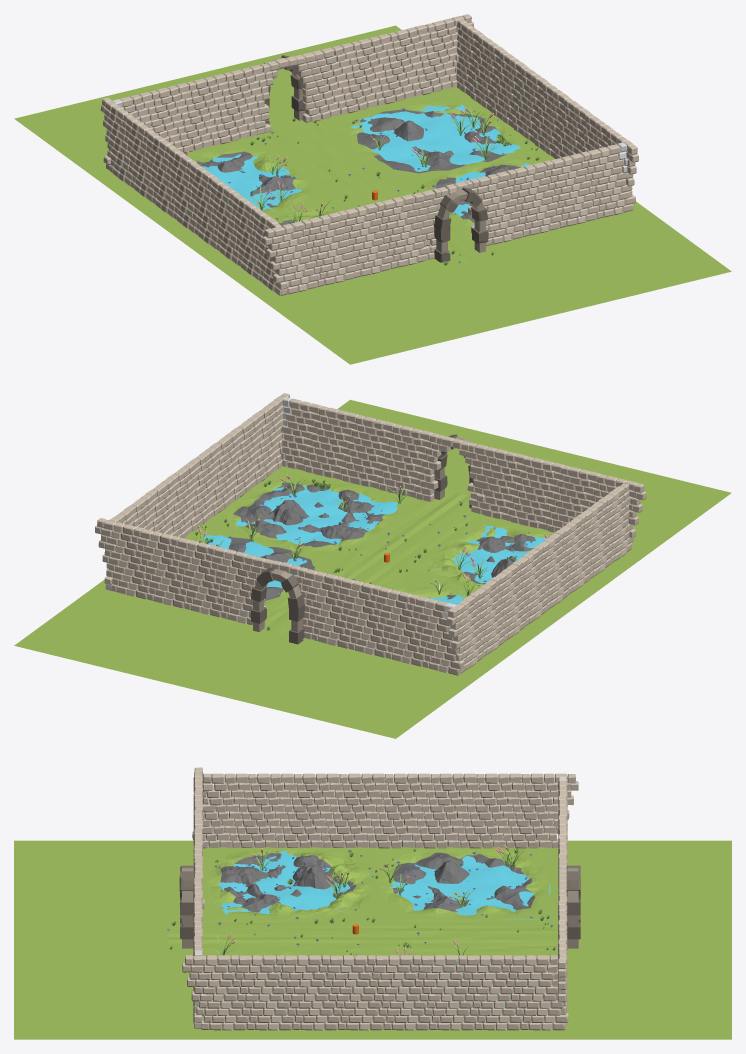
The model's file is Training_first_3(group).fbx.
3 renders of one model, top to bottom at view 1: azimuth 30°, elevation 25°; view 2: azimuth 150°, elevation 25°; view 3: azimuth 270°, elevation 25°, orthographic. The views are drawn at different scales.
Parts seen in each view (by area): view 1: Plane, Cube.069, Cube.008, Landscape.001, Cube.058, Cube.006, Landscape_plane.002, Landscape.007, Landscape_plane.004, Plane.002, Landscape.003, Plane.001; view 2: Plane, Cube.008, Cube.069, Landscape.001, Cube.058, Cube.006, Landscape.008, Landscape_plane.001, Landscape_plane.003, Plane.004, Landscape.002, Landscape.007 (+2 smaller); view 3: Plane, Cube.006, Cube.058, Landscape.001, Landscape_plane.004, Landscape.002, Landscape.003, Landscape_plane.003, Cube.008, Cube.069, Plane.004, Plane.002 (+2 smaller).
Part boxes in pixels (x1=…): Plane: x1=14, y1=25, x2=731, y2=364; Cube.069: x1=262, y1=144, x2=635, y2=295; Cube.008: x1=103, y1=14, x2=473, y2=170; Landscape.001: x1=188, y1=93, x2=552, y2=269; Cube.058: x1=100, y1=97, x2=286, y2=295; Cube.006: x1=455, y1=19, x2=638, y2=196; Landscape_plane.002: x1=351, y1=104, x2=520, y2=171; Landscape.007: x1=357, y1=109, x2=506, y2=173; Landscape_plane.004: x1=202, y1=154, x2=302, y2=211; Plane.002: x1=434, y1=187, x2=488, y2=262; Landscape.003: x1=196, y1=151, x2=295, y2=207; Plane.001: x1=436, y1=190, x2=485, y2=252; Plane: x1=14, y1=399, x2=731, y2=738; Cube.008: x1=95, y1=518, x2=464, y2=675; Cube.069: x1=280, y1=398, x2=646, y2=532; Landscape.001: x1=187, y1=468, x2=553, y2=641; Cube.058: x1=446, y1=483, x2=635, y2=673; Cube.006: x1=104, y1=393, x2=289, y2=591; Landscape.008: x1=233, y1=482, x2=384, y2=547; Landscape_plane.001: x1=236, y1=484, x2=397, y2=544; Landscape_plane.003: x1=434, y1=525, x2=546, y2=582; Plane.004: x1=251, y1=567, x2=304, y2=644; Landscape.002: x1=463, y1=534, x2=536, y2=584; Landscape.007: x1=227, y1=537, x2=315, y2=600; Plane: x1=14, y1=840, x2=731, y2=1039; Cube.006: x1=182, y1=955, x2=568, y2=1030; Cube.058: x1=192, y1=773, x2=578, y2=848; Landscape.001: x1=166, y1=848, x2=571, y2=1024; Landscape_plane.004: x1=382, y1=852, x2=550, y2=919; Landscape.002: x1=220, y1=853, x2=356, y2=912; Landscape.003: x1=389, y1=852, x2=535, y2=911; Landscape_plane.003: x1=218, y1=851, x2=369, y2=914; Cube.008: x1=558, y1=780, x2=567, y2=1014; Cube.069: x1=193, y1=767, x2=204, y2=1028; Plane.004: x1=566, y1=865, x2=580, y2=939; Plane.002: x1=179, y1=865, x2=194, y2=939.
Bounding box in the file's own units: 2465 × 450 × 3759.
